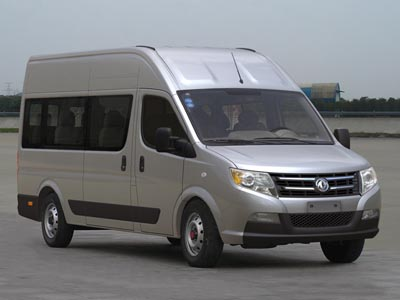midcar: (7, 32, 377, 277)
